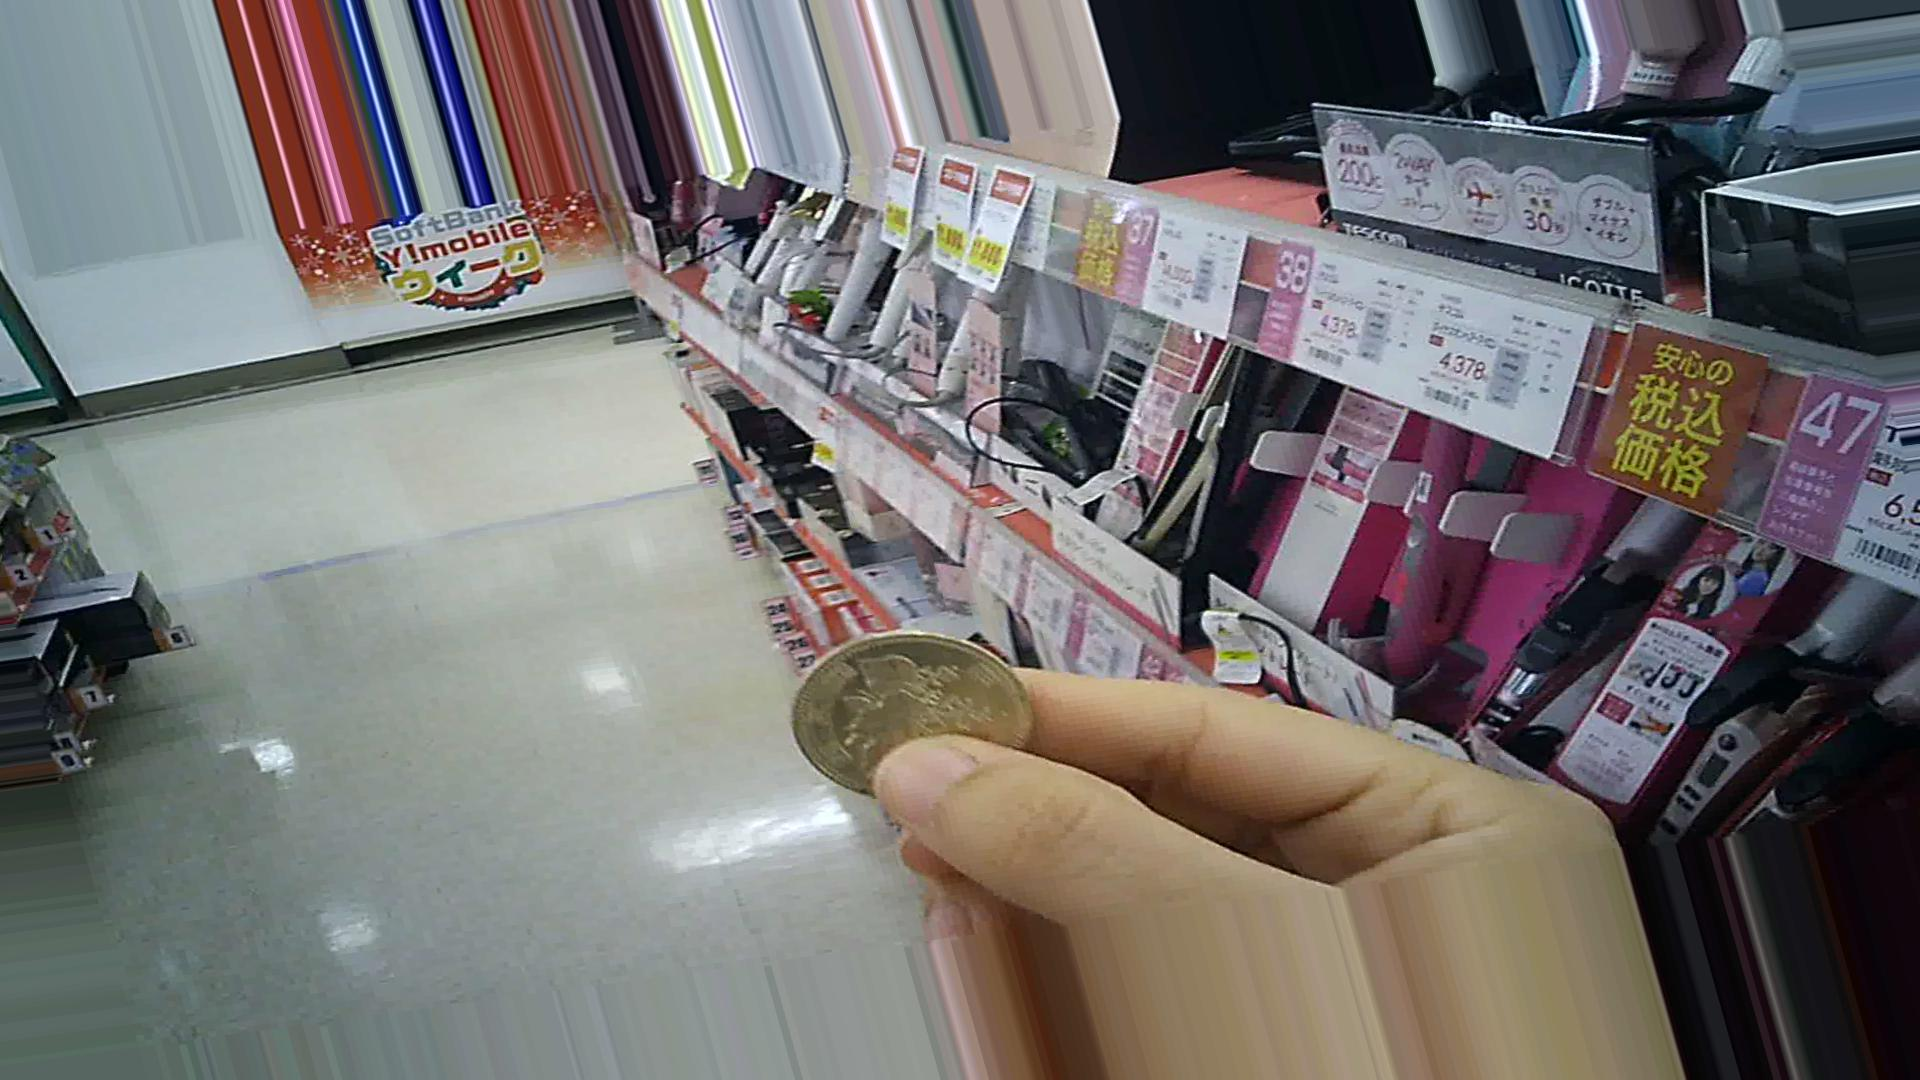500 Yen: (775, 621, 1033, 803)
